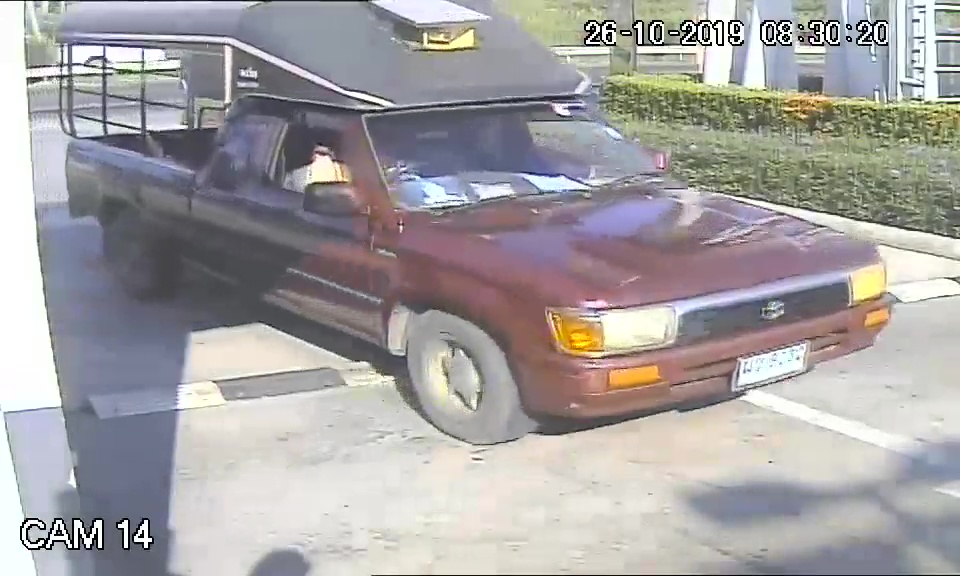pickup: (60, 72, 898, 449)
